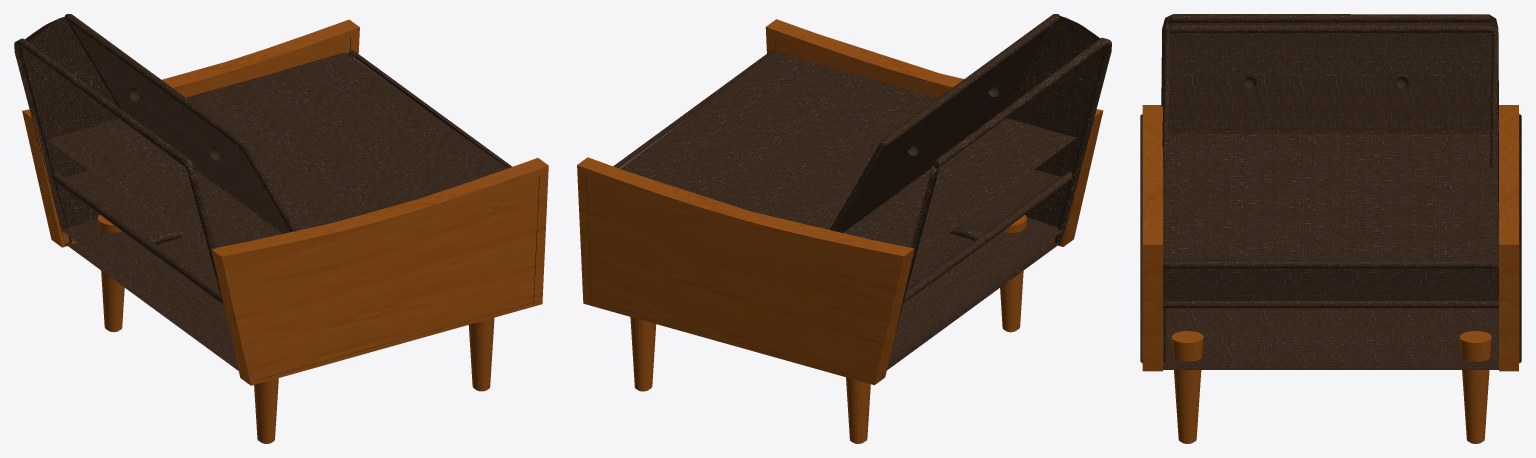
Rendered from Tylerchair3git.glb.
The picture shows the model from 3 angles, left to right: view 1: azimuth 30°, elevation 25°; view 2: azimuth 150°, elevation 25°; view 3: azimuth 270°, elevation 25°; orthographic projection. The views are drawn at different scales.
Visible parts, largest first — view 1: Cylinder.005, Cylinder.001; view 2: Cylinder.005, Cylinder.001; view 3: Cylinder.005, Cylinder.001.
Part boxes in pixels (box(x1,y1,x2,y2)): Cylinder.005: box(14, 14, 539, 379); Cylinder.001: box(22, 19, 548, 443); Cylinder.005: box(586, 14, 1111, 379); Cylinder.001: box(577, 19, 1103, 443); Cylinder.005: box(1140, 14, 1521, 369); Cylinder.001: box(1142, 105, 1518, 443).
Size of the model in its own units: 1.01 by 0.8843 by 1.01.
2 materials, 2 textured.
